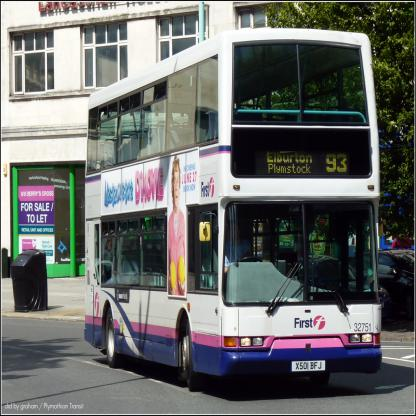Bus: (85, 31, 383, 391)
